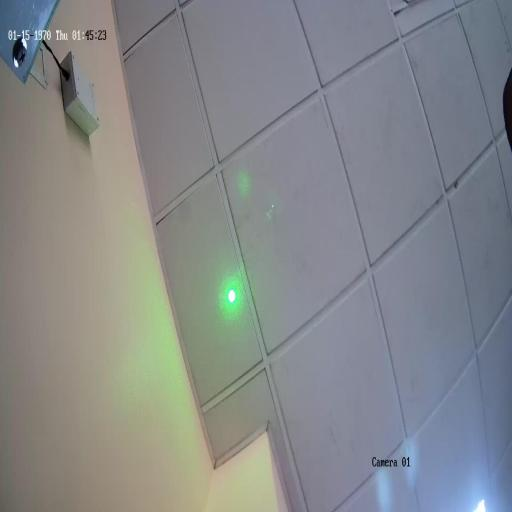laser: (225, 285, 239, 308)
